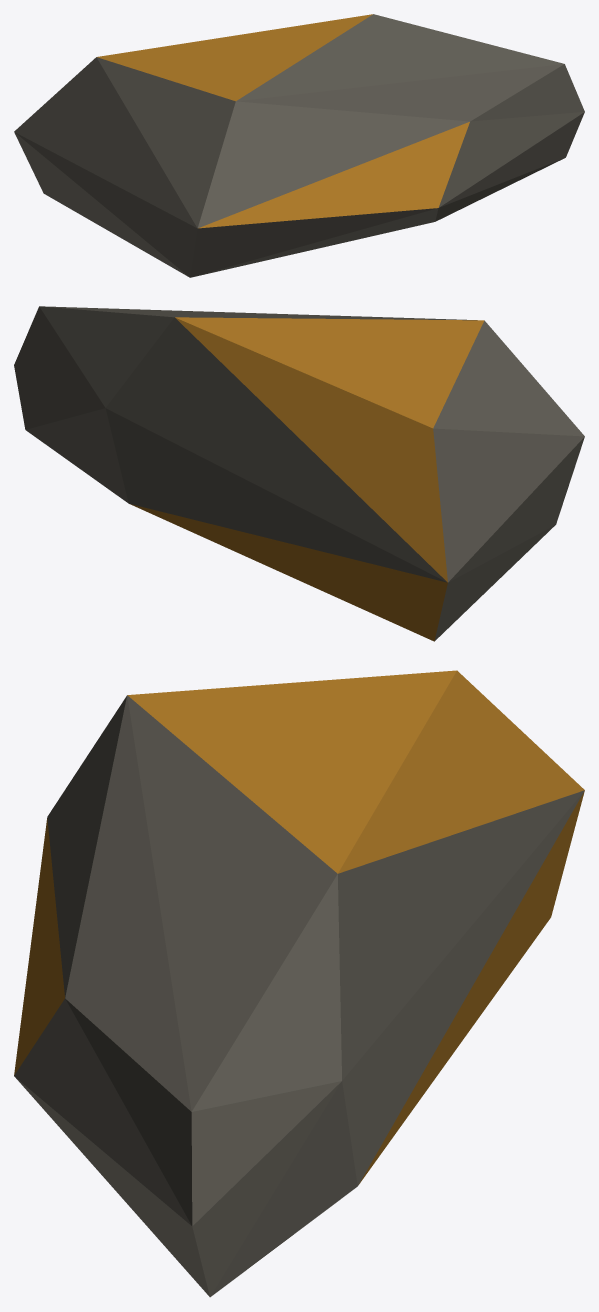
File: ore_gold_v01_lod2.glb
3 views of the same model, one above another, from view 1: azimuth 30°, elevation 25°; view 2: azimuth 150°, elevation 25°; view 3: azimuth 270°, elevation 25° (orthographic). The views are drawn at different scales.
Visible parts, largest first — view 1: ore_gold_v01_lod2; view 2: ore_gold_v01_lod2; view 3: ore_gold_v01_lod2.
Boxes of the visible parts, <box> form: ore_gold_v01_lod2: <box>14,14,584,277</box>; ore_gold_v01_lod2: <box>14,306,584,641</box>; ore_gold_v01_lod2: <box>14,670,584,1297</box>.
Size of the model in its own units: 2.67 by 0.875 by 1.57.
